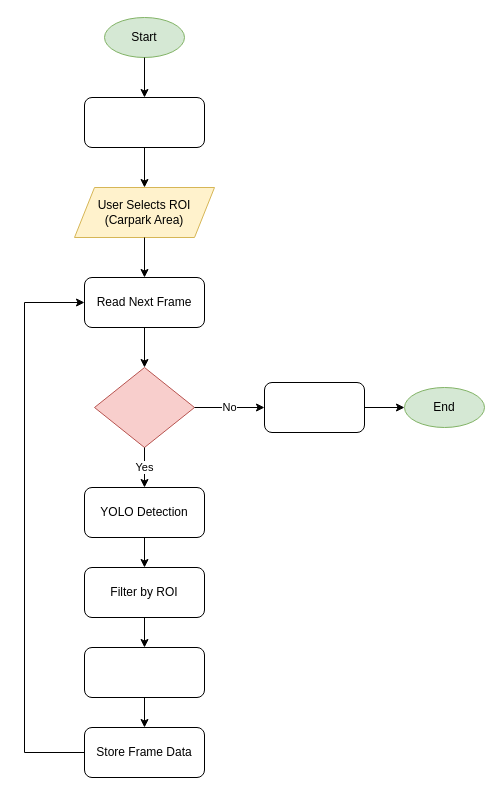
Some shapes in this 502 by 795 pixel diagram are drawn without their labels. Here are the shapes that lost their labels. From the top down, the centre of each, then its label:
At [144,122]: "Load YOLO Model (v12 or v8)".
At [144,407]: "Frame Available?".
At [314,407]: "Save CSV".
At [144,672]: "Update Object Tracker (Assign IDs)".
